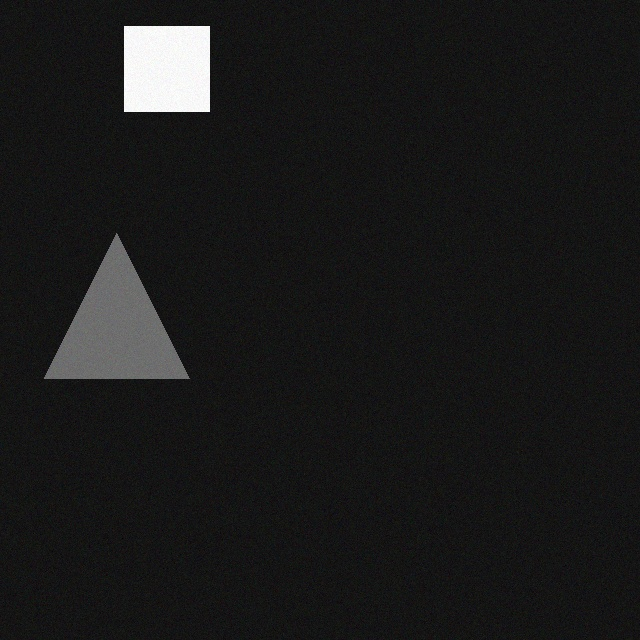square: (110, 33, 195, 118)
triangle: (30, 240, 175, 385)
